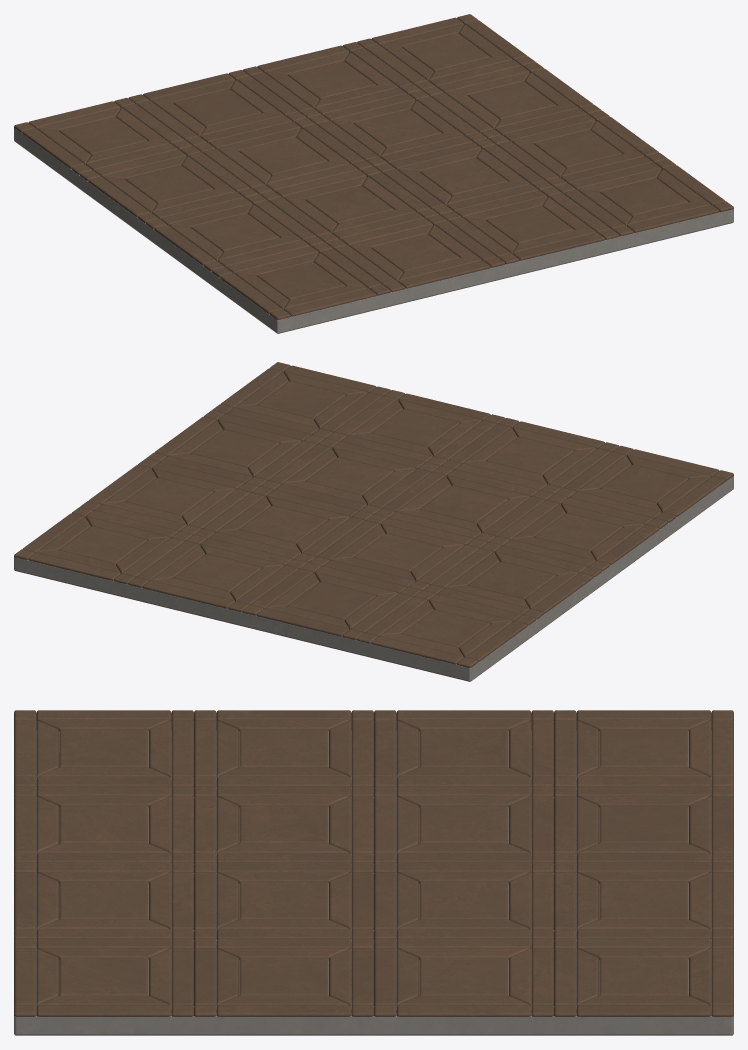
Rendered from SK4 CEILING LARGE.fbx.
3 renders of one model, top to bottom at view 1: azimuth 30°, elevation 25°; view 2: azimuth 150°, elevation 25°; view 3: azimuth 270°, elevation 25°, orthographic. The views are drawn at different scales.
Visible parts, largest first — view 1: SK4 CEILING LARGE.025; view 2: SK4 CEILING LARGE.025; view 3: SK4 CEILING LARGE.025.
Boxes of the visible parts, x1,y1,x2,y2 form: SK4 CEILING LARGE.025: (14, 14, 733, 333); SK4 CEILING LARGE.025: (14, 362, 733, 681); SK4 CEILING LARGE.025: (14, 710, 733, 1035).
Bounding box in the file's own units: 400 × 16.64 × 400.
